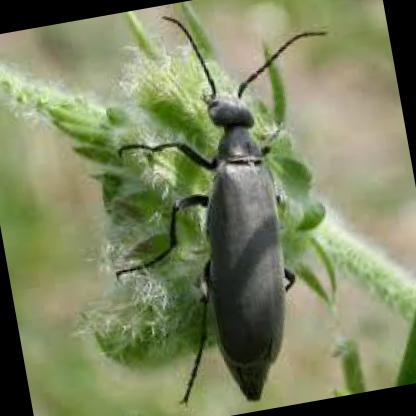blister beetle: (113, 18, 325, 408)
